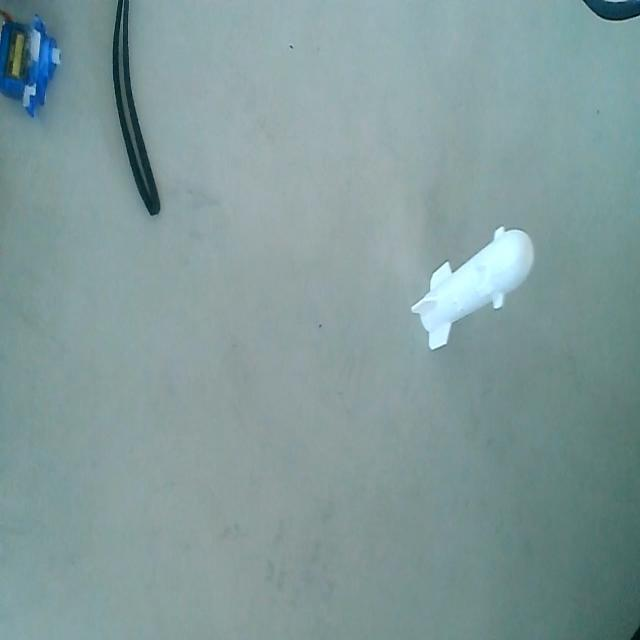Rocket: (410, 221, 544, 360)
